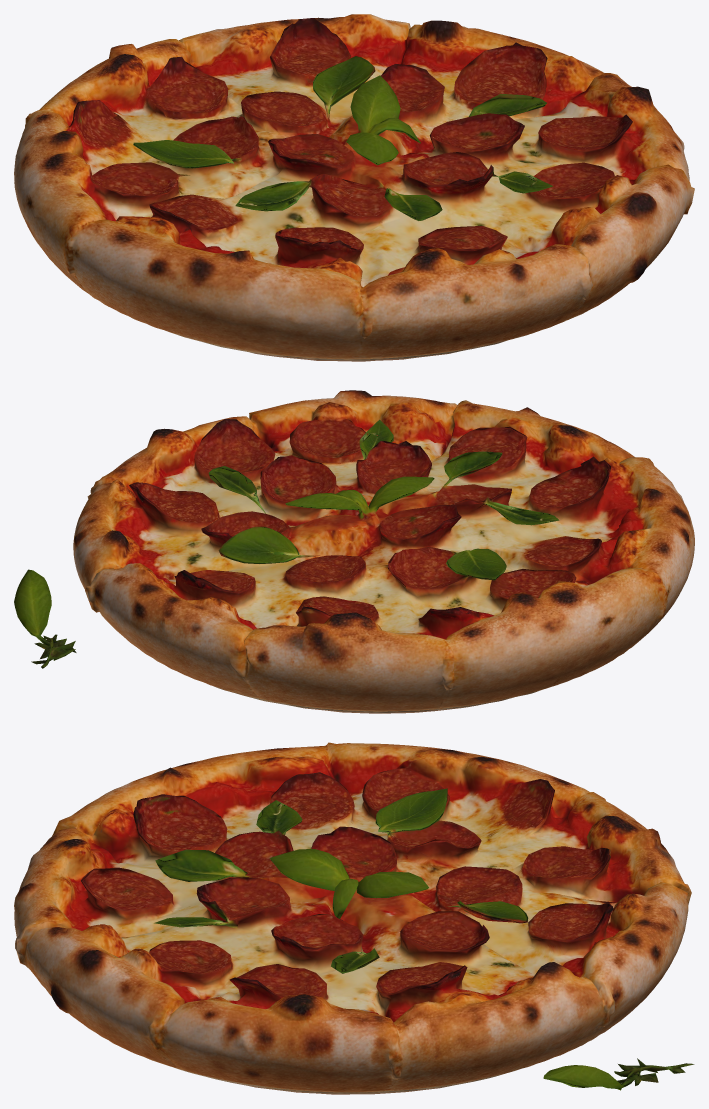
Rendered from pizza.glb.
The picture shows the model from 3 angles, top to bottom: view 1: azimuth 30°, elevation 25°; view 2: azimuth 150°, elevation 25°; view 3: azimuth 270°, elevation 25°; orthographic projection. The views are drawn at different scales.
Visible parts, largest first — view 1: tripo_node_492da314-7441-4486-b5e1-7e538479ffb5; view 2: tripo_node_492da314-7441-4486-b5e1-7e538479ffb5; view 3: tripo_node_492da314-7441-4486-b5e1-7e538479ffb5.
Boxes of the visible parts, x1,y1,x2,y2 form: tripo_node_492da314-7441-4486-b5e1-7e538479ffb5: (14, 14, 694, 361); tripo_node_492da314-7441-4486-b5e1-7e538479ffb5: (14, 390, 694, 713); tripo_node_492da314-7441-4486-b5e1-7e538479ffb5: (14, 742, 694, 1094).
Size of the model in its own units: 0.9961 by 0.2128 by 0.9942.
1 material, 1 textured.
